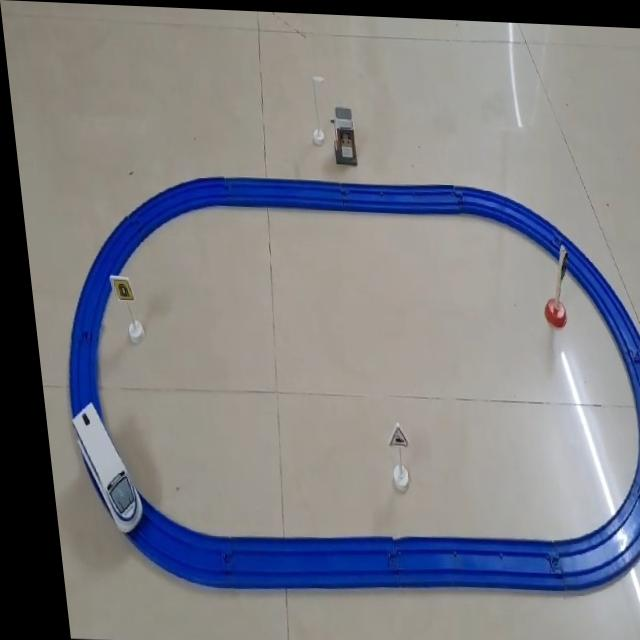bus: (60, 400, 133, 533)
